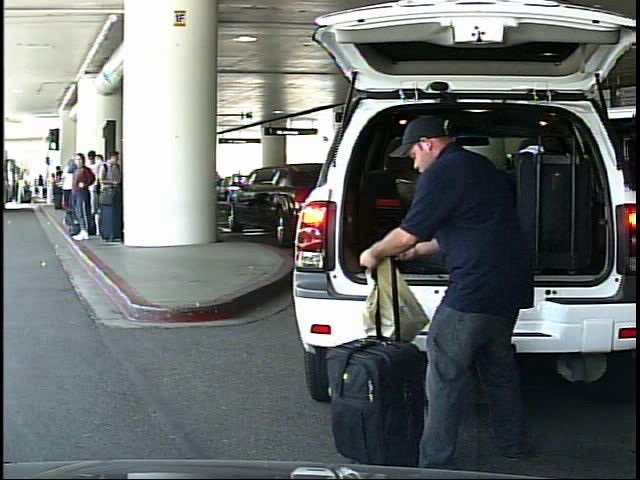person: (374, 108, 549, 475), (34, 172, 46, 201), (17, 174, 28, 205)
